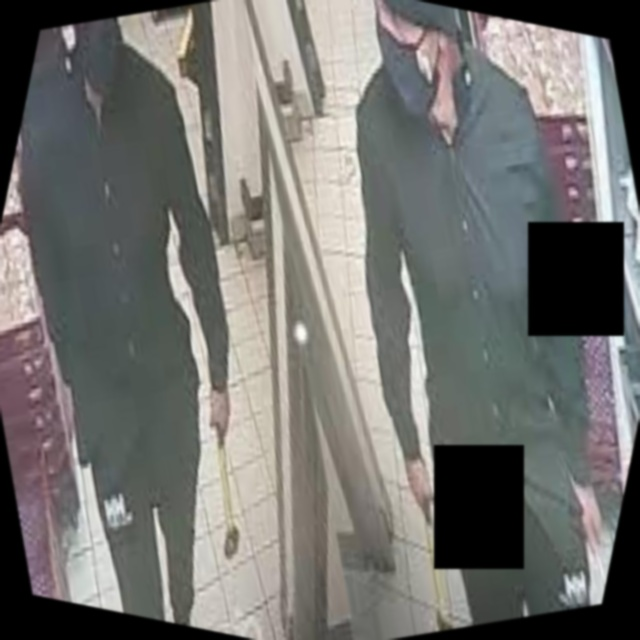gun: (147, 376, 299, 580), (350, 457, 491, 639), (578, 534, 614, 600)
